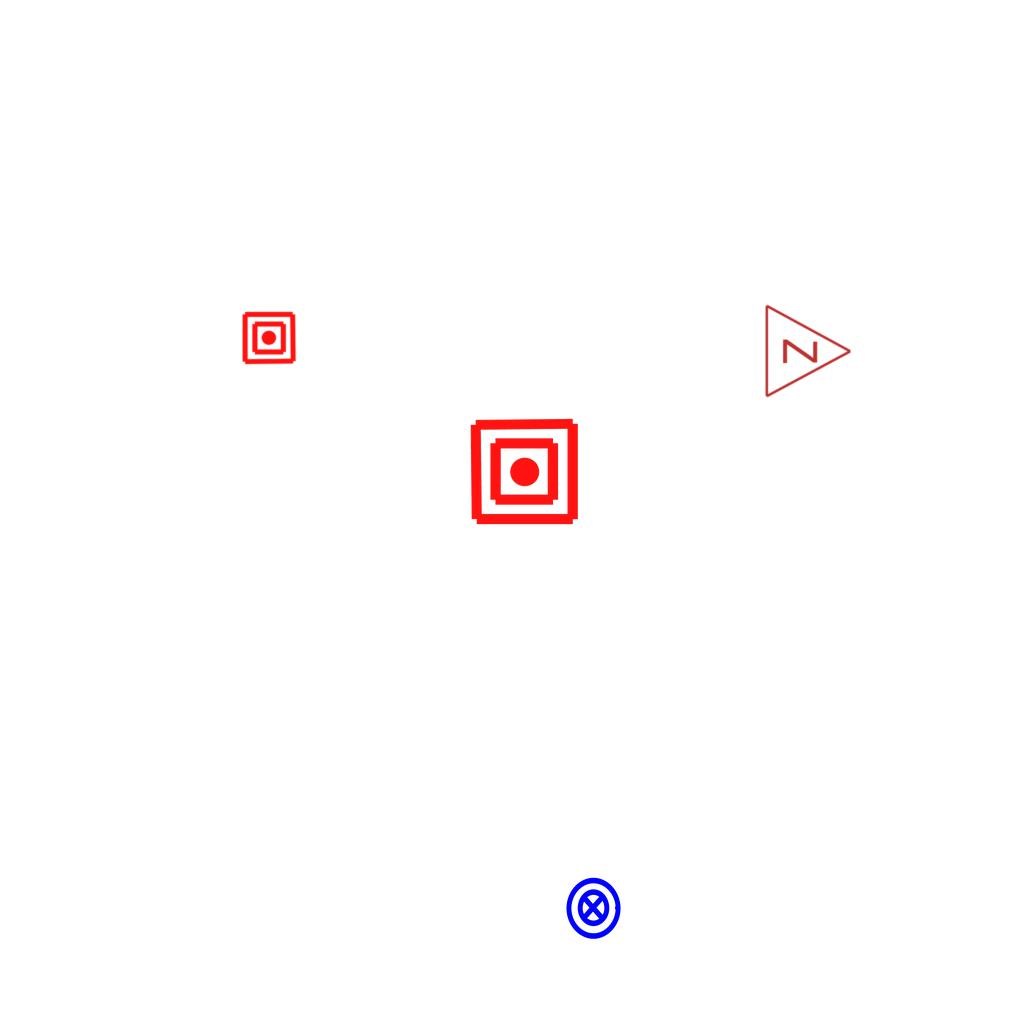NAM-Nichtautomatischer_Melder: (468, 415, 581, 528), (241, 310, 297, 366)
Taster_beleuchtet: (560, 875, 626, 941)
Zimmersignalleuchte: (758, 301, 858, 399)
